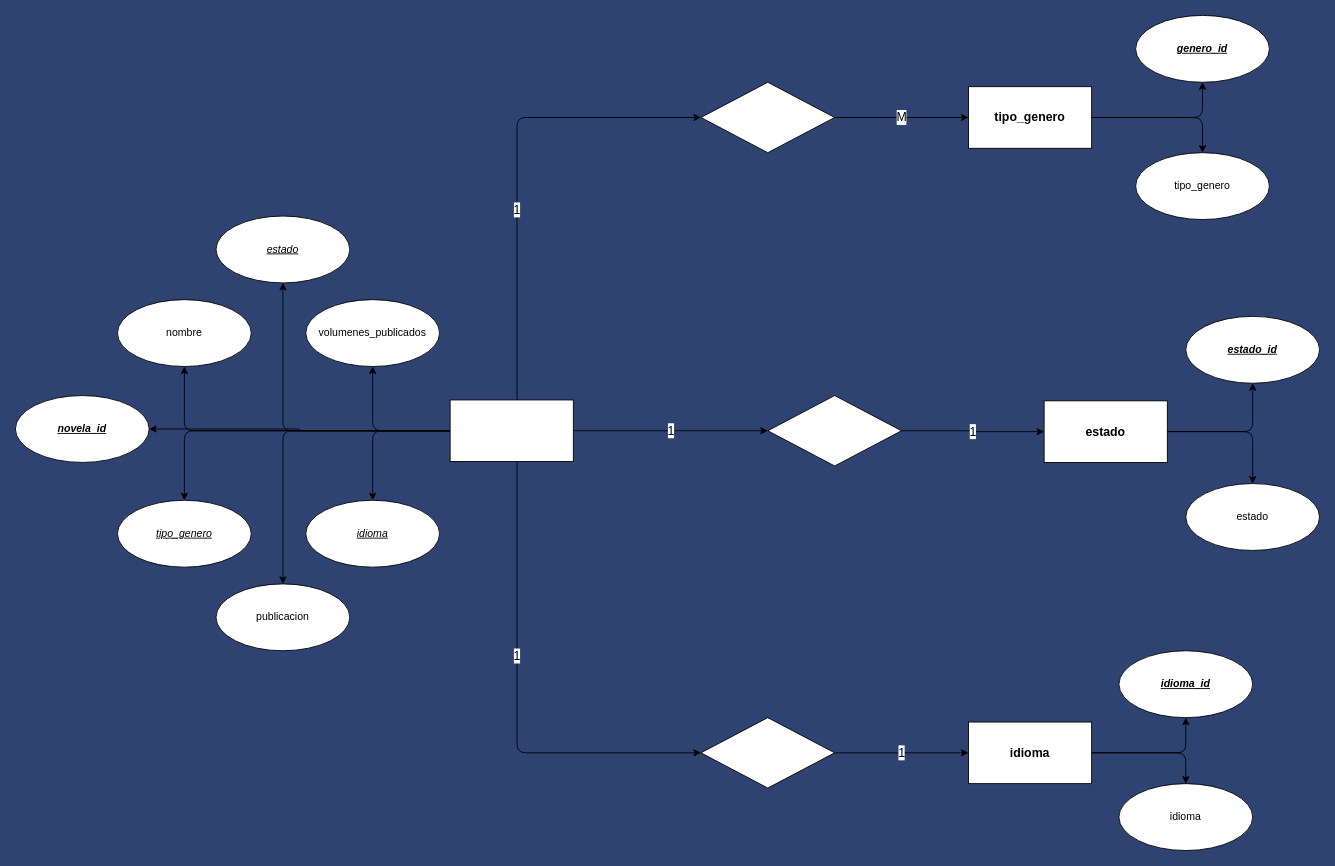
Image size: 1335x866. Some labels were removed from this diagram. Each missing label, with the centre of its shape:
es escrita: pixel 767 752
novela_ligera: pixel 511 430
pertenece: pixel 767 117
se encuentra: pixel 834 430
